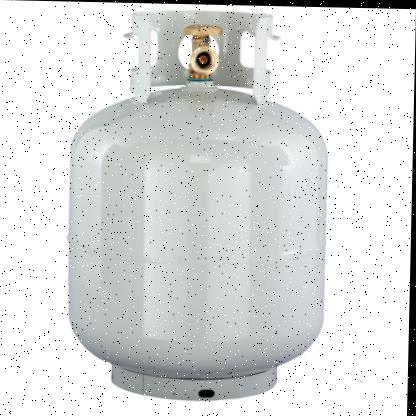gas-tank: (49, 0, 352, 415)
